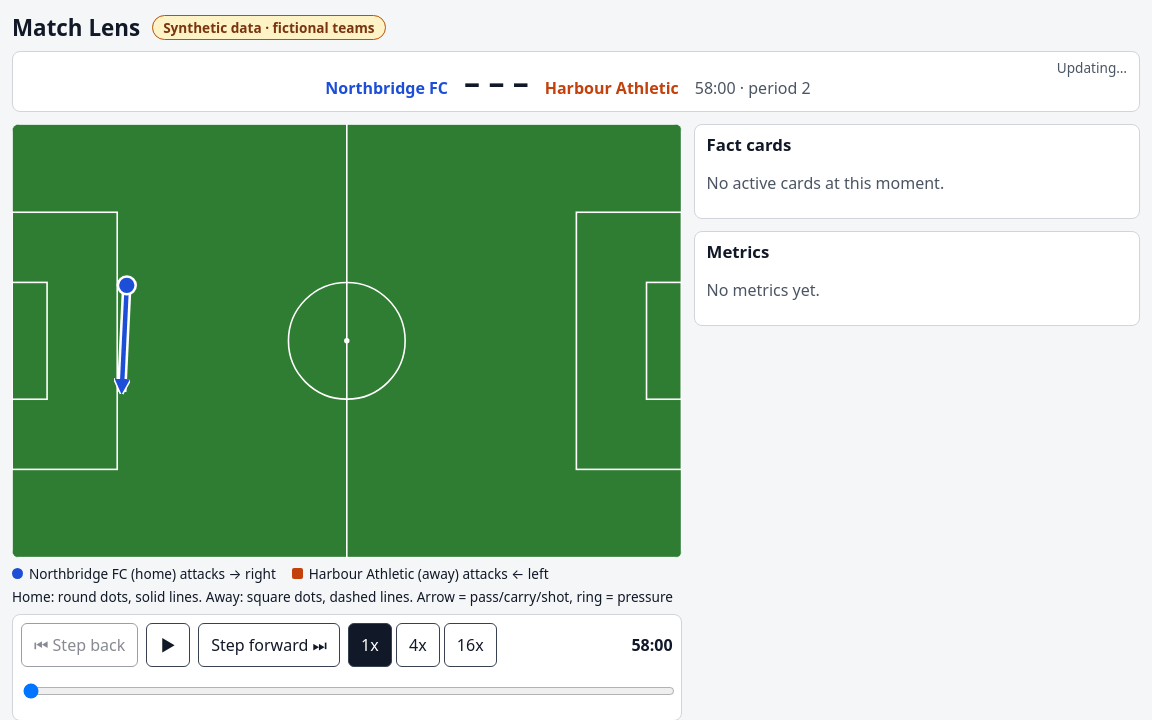
Test: cards › evidence disclosure lists the evidence event ids with time, team, type and player
Set the slider named "Replay position" to "29" at (223, 691), box x1=23 y1=675 x2=675 y2=707
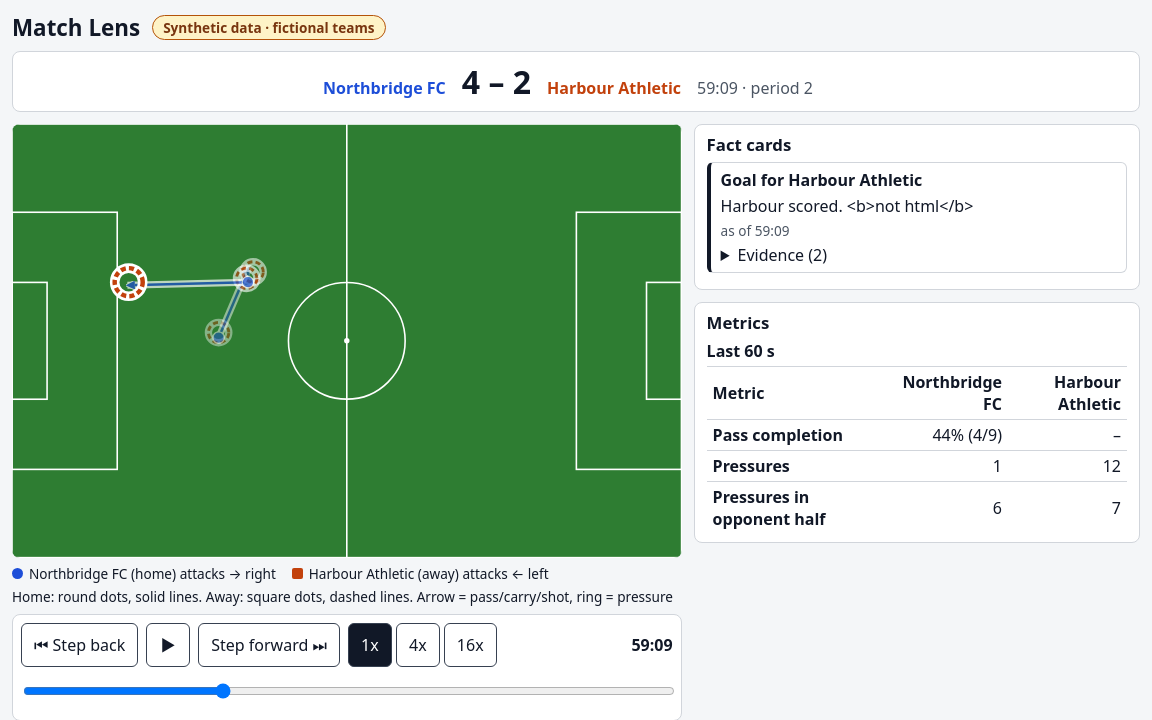
Click the heading "Evidence (2)" at (782, 255), box x1=738 y1=244 x2=827 y2=266
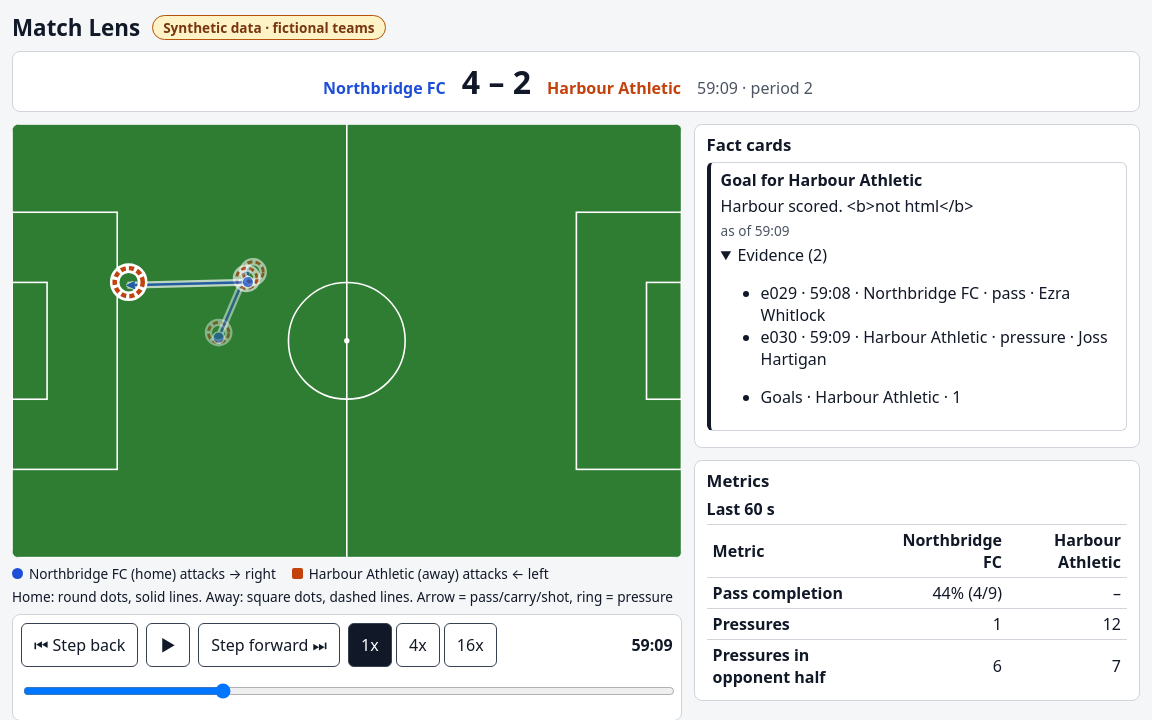
Result: the list item "e030 · 59:09 · Harbour Athletic · pressure · Joss Hartigan" is shown at x1=761 y1=326 x2=1116 y2=370
Result: the list item "Goals · Harbour Athletic · 1" is shown at x1=761 y1=386 x2=961 y2=408
